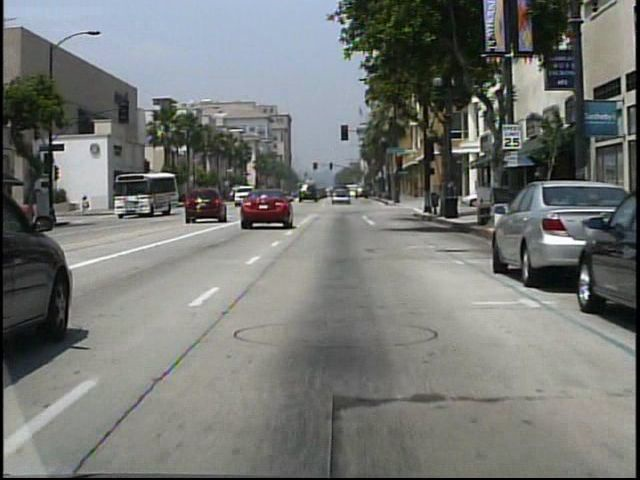person: (83, 194, 91, 215)
